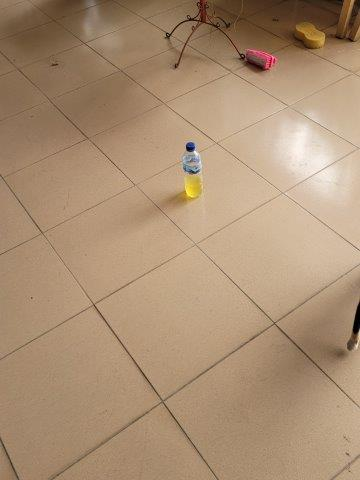botolplastik: (182, 144, 203, 198)
